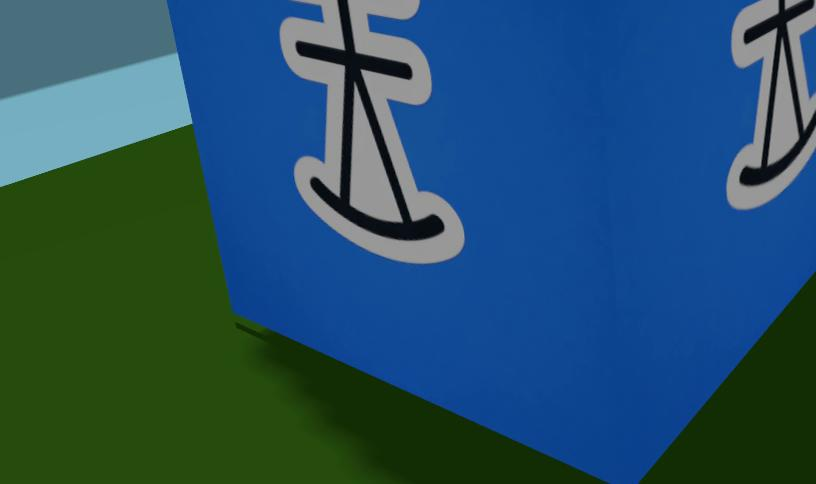KFS_REAL: (166, 0, 816, 483), (280, 0, 463, 263), (727, 0, 816, 209)
